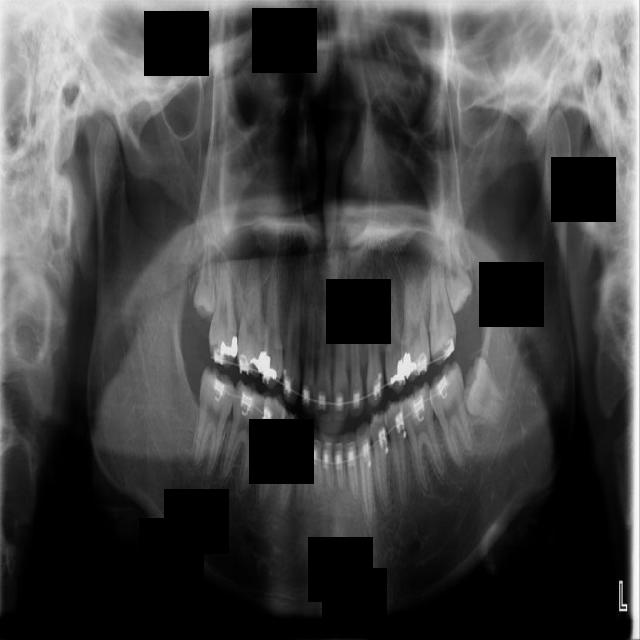3M ESPE Implant: (188, 230, 217, 321)
52: (398, 326, 434, 383), (232, 325, 270, 378), (206, 316, 241, 370), (259, 334, 286, 390), (382, 342, 409, 395)
73: (562, 610, 570, 620)
BioHorizons Implant: (429, 250, 457, 366)
BioLife Implant: (438, 220, 476, 315)
Biomet 3i Implant: (447, 354, 516, 436)
Blue Sky Bio Implant: (424, 359, 478, 473)
Caries: (208, 249, 240, 369)
Implant: (191, 365, 238, 480)
